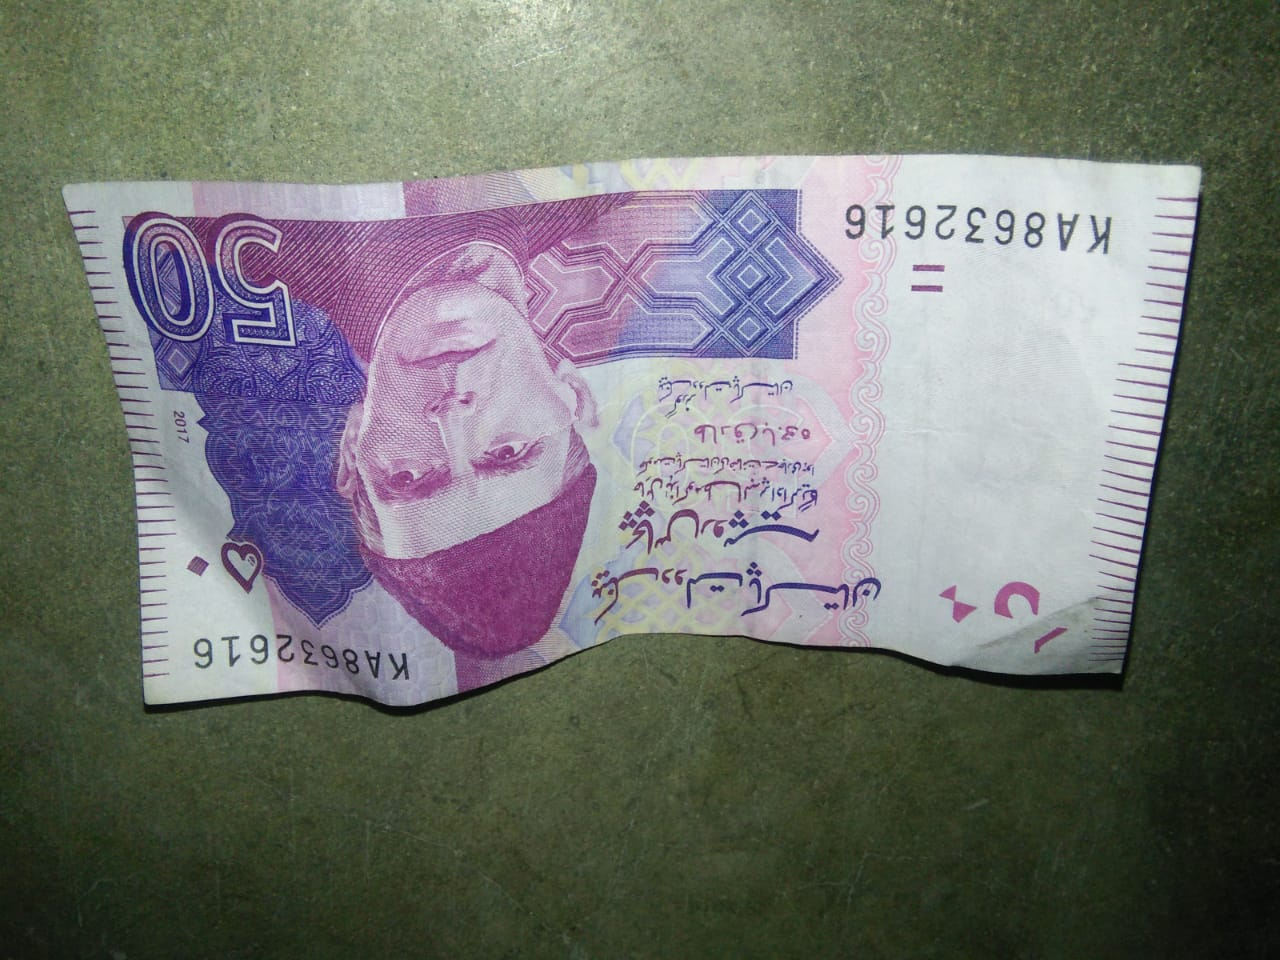50 rupee: (44, 123, 1200, 760)
